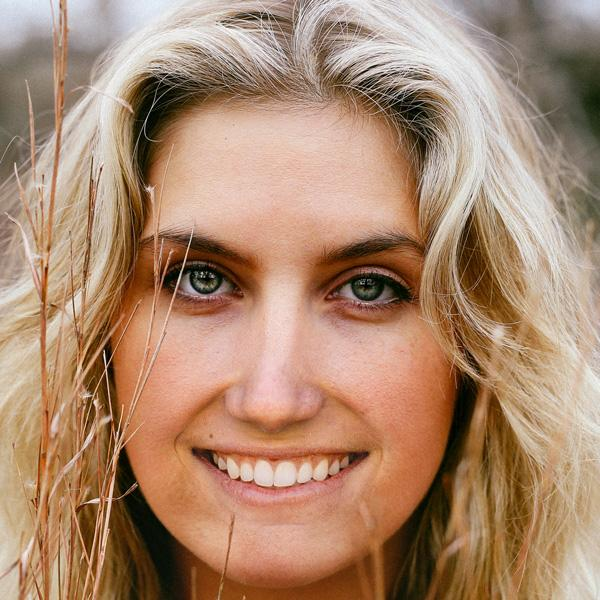Eyes: (141, 249, 253, 321), (311, 253, 419, 324)
